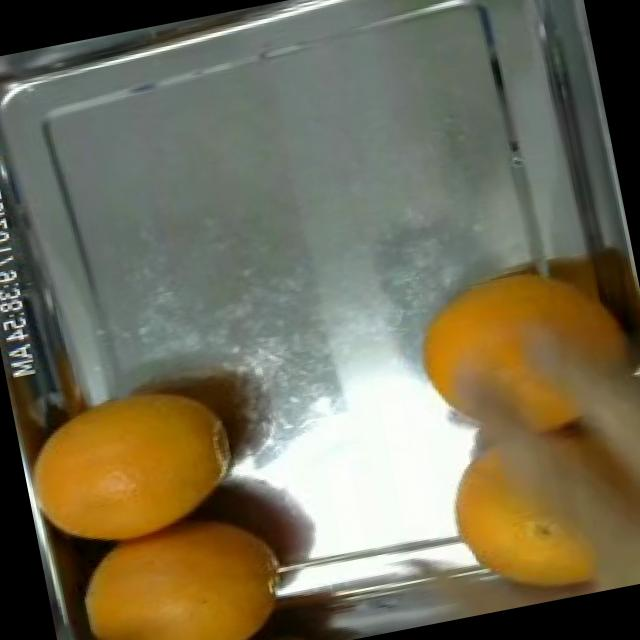Fruit: (40, 502, 281, 640)
